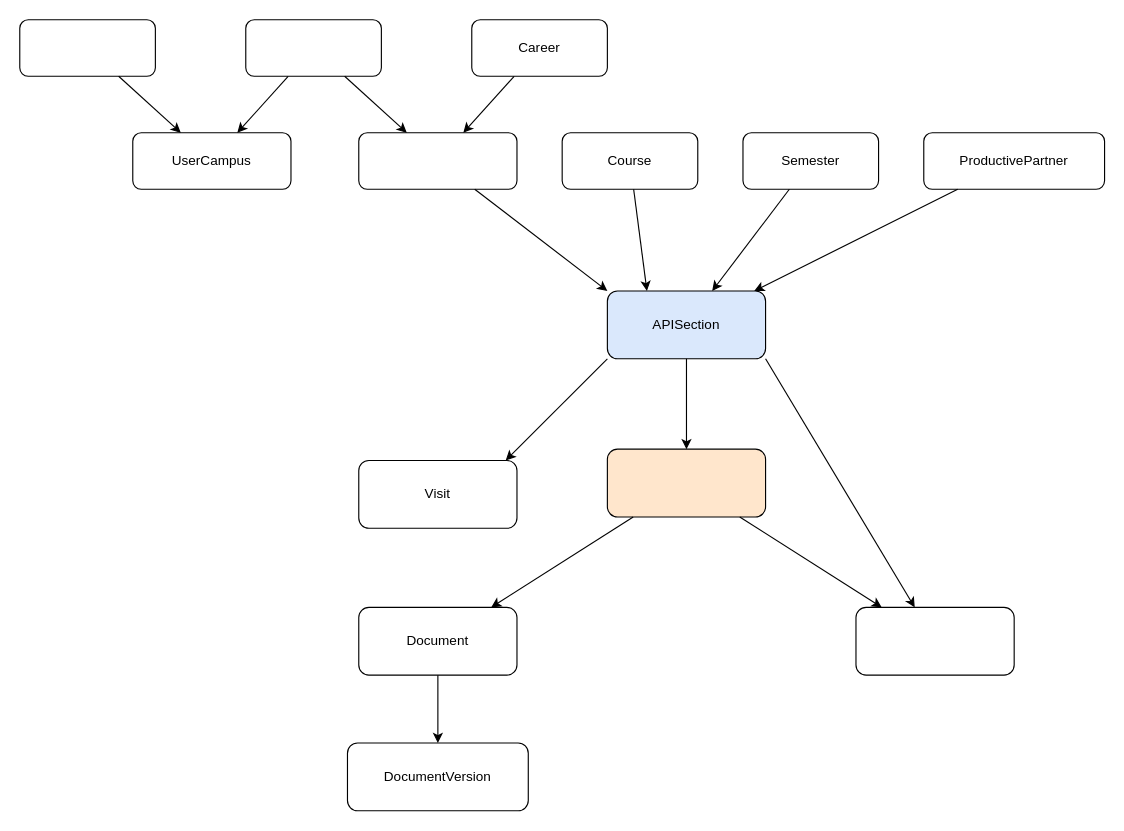
Image size: 1124x831. Some labels were removed from this diagram. The shapes that lost their labels are listed below. From the top down, each one's box as (x1, y1, x2, y2) in pixels, then its label:
(19, 19, 155, 76): User
(245, 19, 381, 76): Campus
(358, 132, 517, 189): CampusCareer
(606, 448, 766, 517): ProcessStage
(855, 606, 1014, 675): Alert
